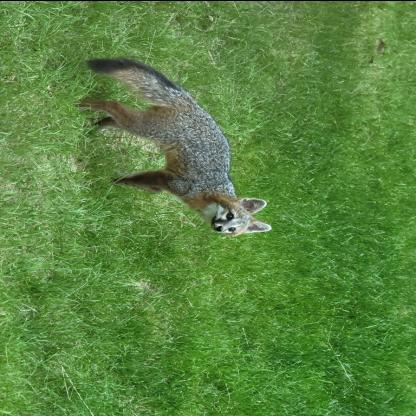zorro: (77, 54, 277, 244)
